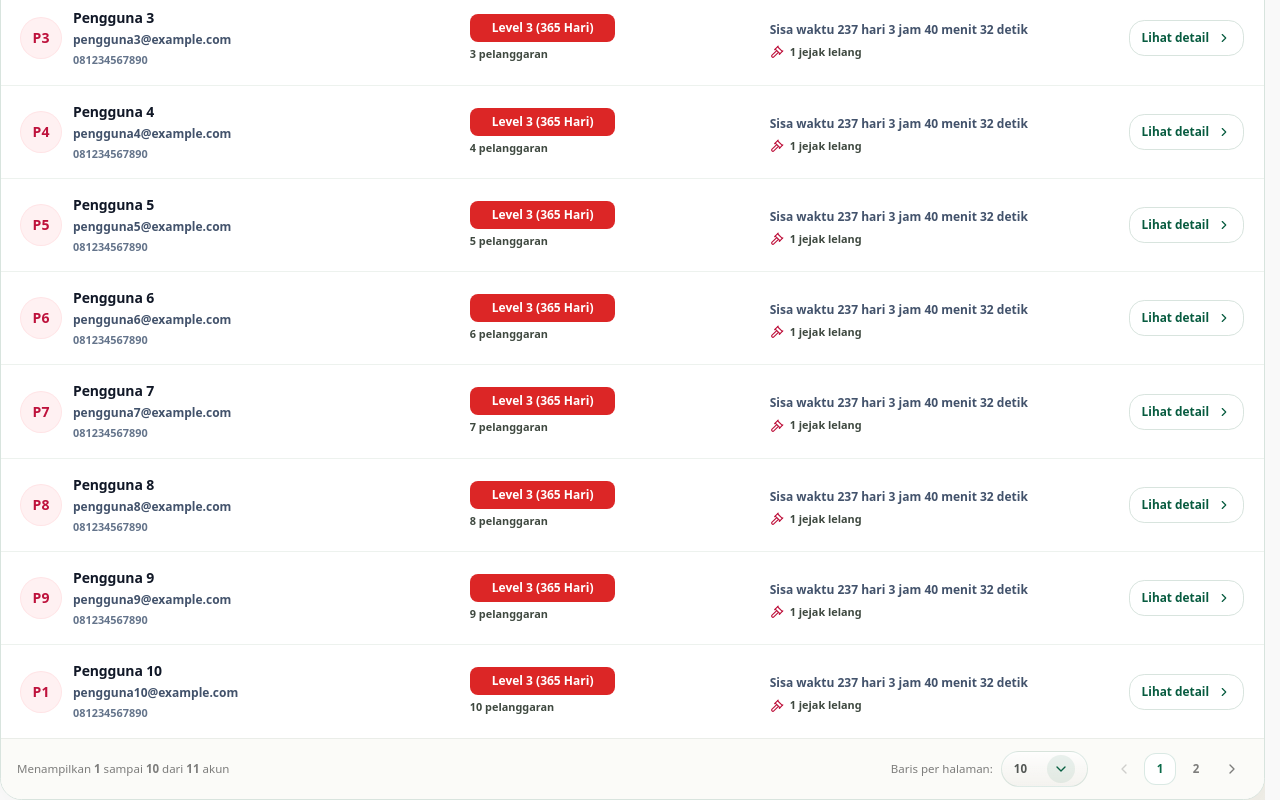
Test: AdminBlacklistPage › paginates blacklist entries with shared row options
The width and height of the screenshot is (1280, 800).
(page scrolled)
Check: the text "Pengguna 11" is not shown
Check: the text "Unit" is not shown
Click the button "2": (1196, 769) [1180, 753, 1212, 785]
(page scrolled)
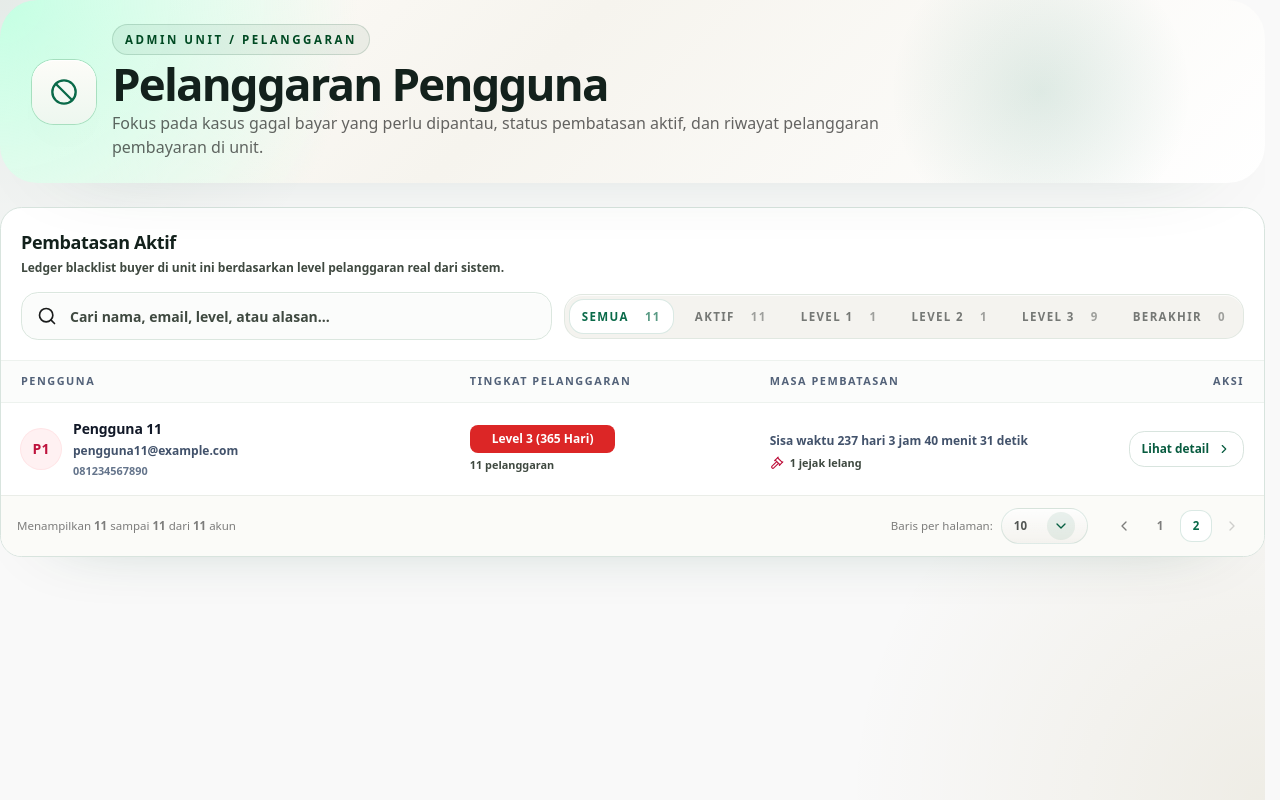
Check: the text "Pengguna 11" is shown, box [73, 419, 162, 438]
